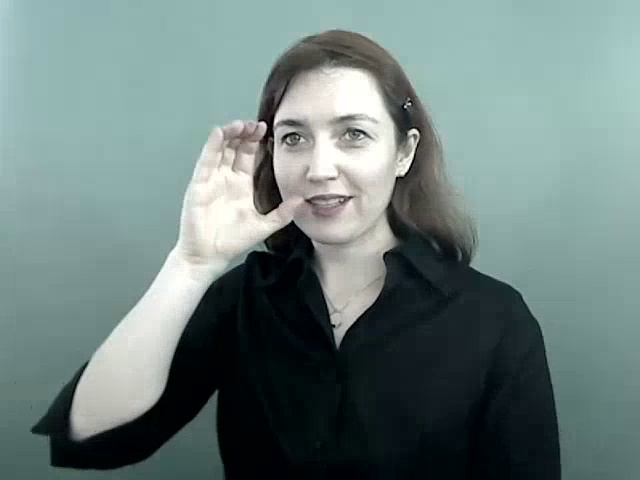drink: (177, 116, 305, 257)
